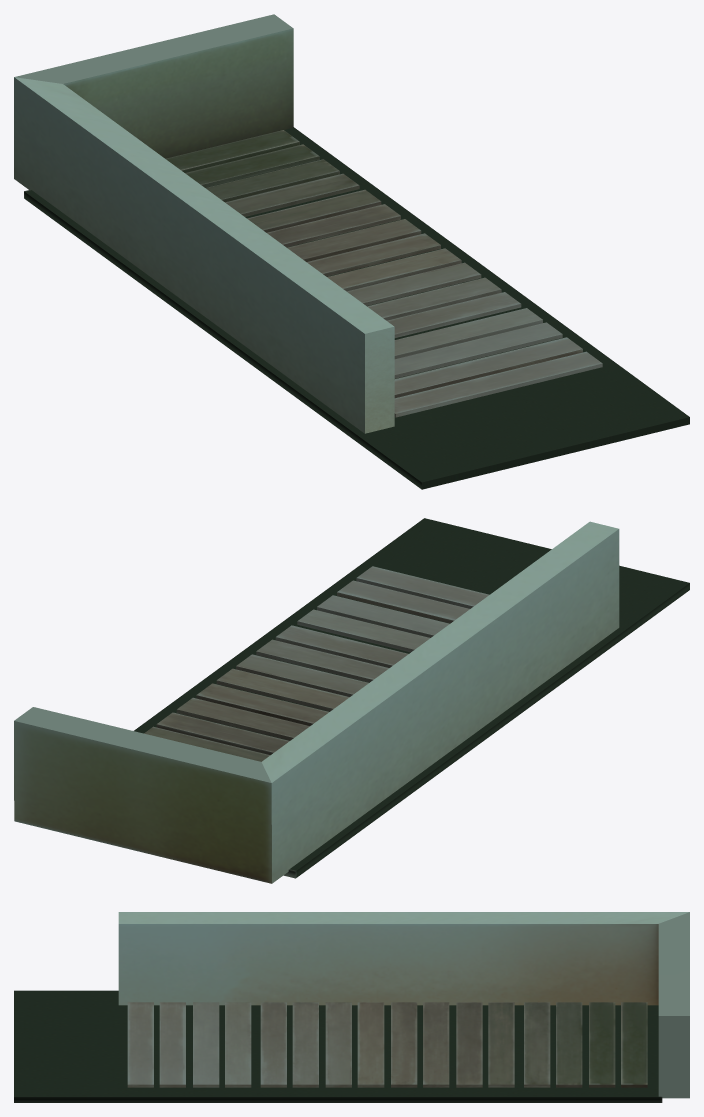
File: Balcony.fbx
3 views of the same model, one above another, from view 1: azimuth 30°, elevation 25°; view 2: azimuth 150°, elevation 25°; view 3: azimuth 270°, elevation 25° (orthographic). The views are drawn at different scales.
Visible parts, largest first — view 1: Balcony; view 2: Balcony; view 3: Balcony.
Part boxes in pixels (left/top/right/bottom): Balcony: left=14, top=14, right=689, bottom=489; Balcony: left=14, top=518, right=689, bottom=883; Balcony: left=14, top=912, right=689, bottom=1102.
Bounding box in the file's own units: 781 × 298 × 2094.
